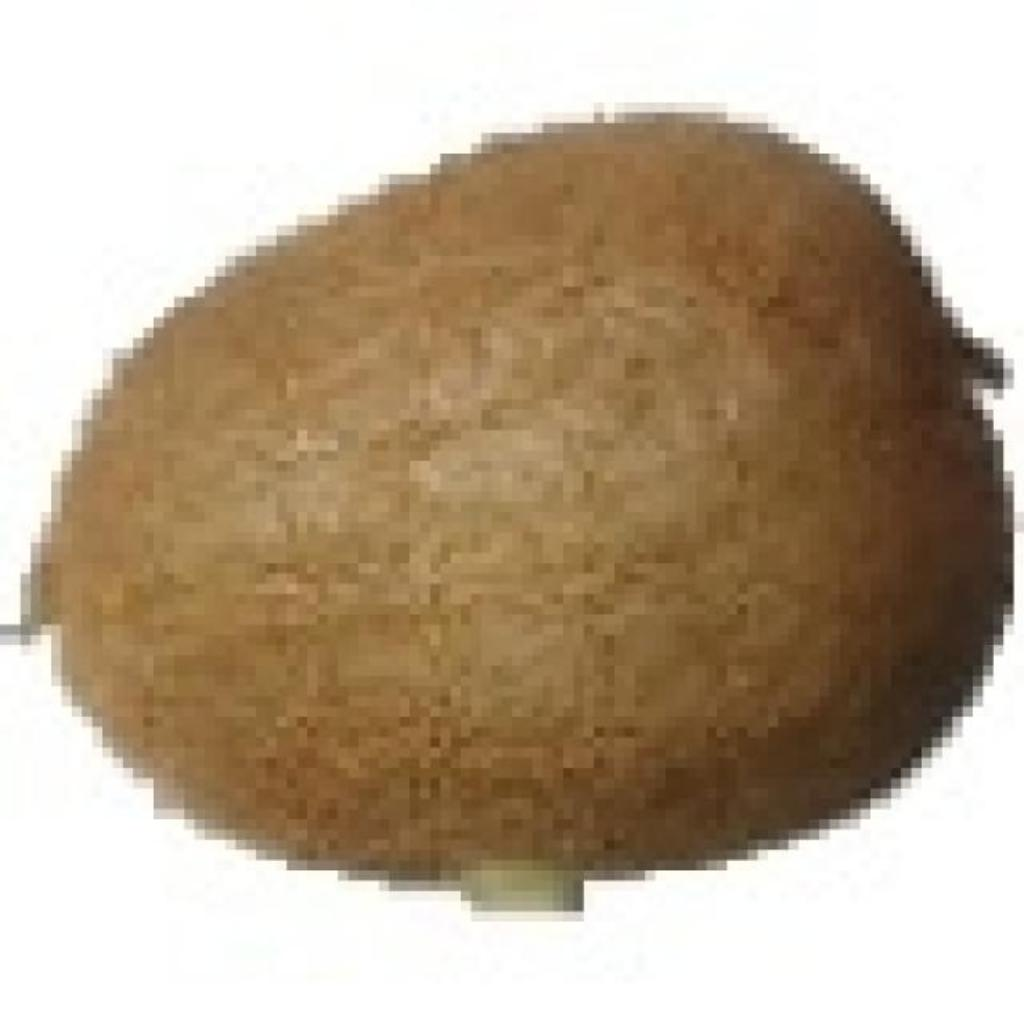kiwi: (20, 102, 993, 881)
